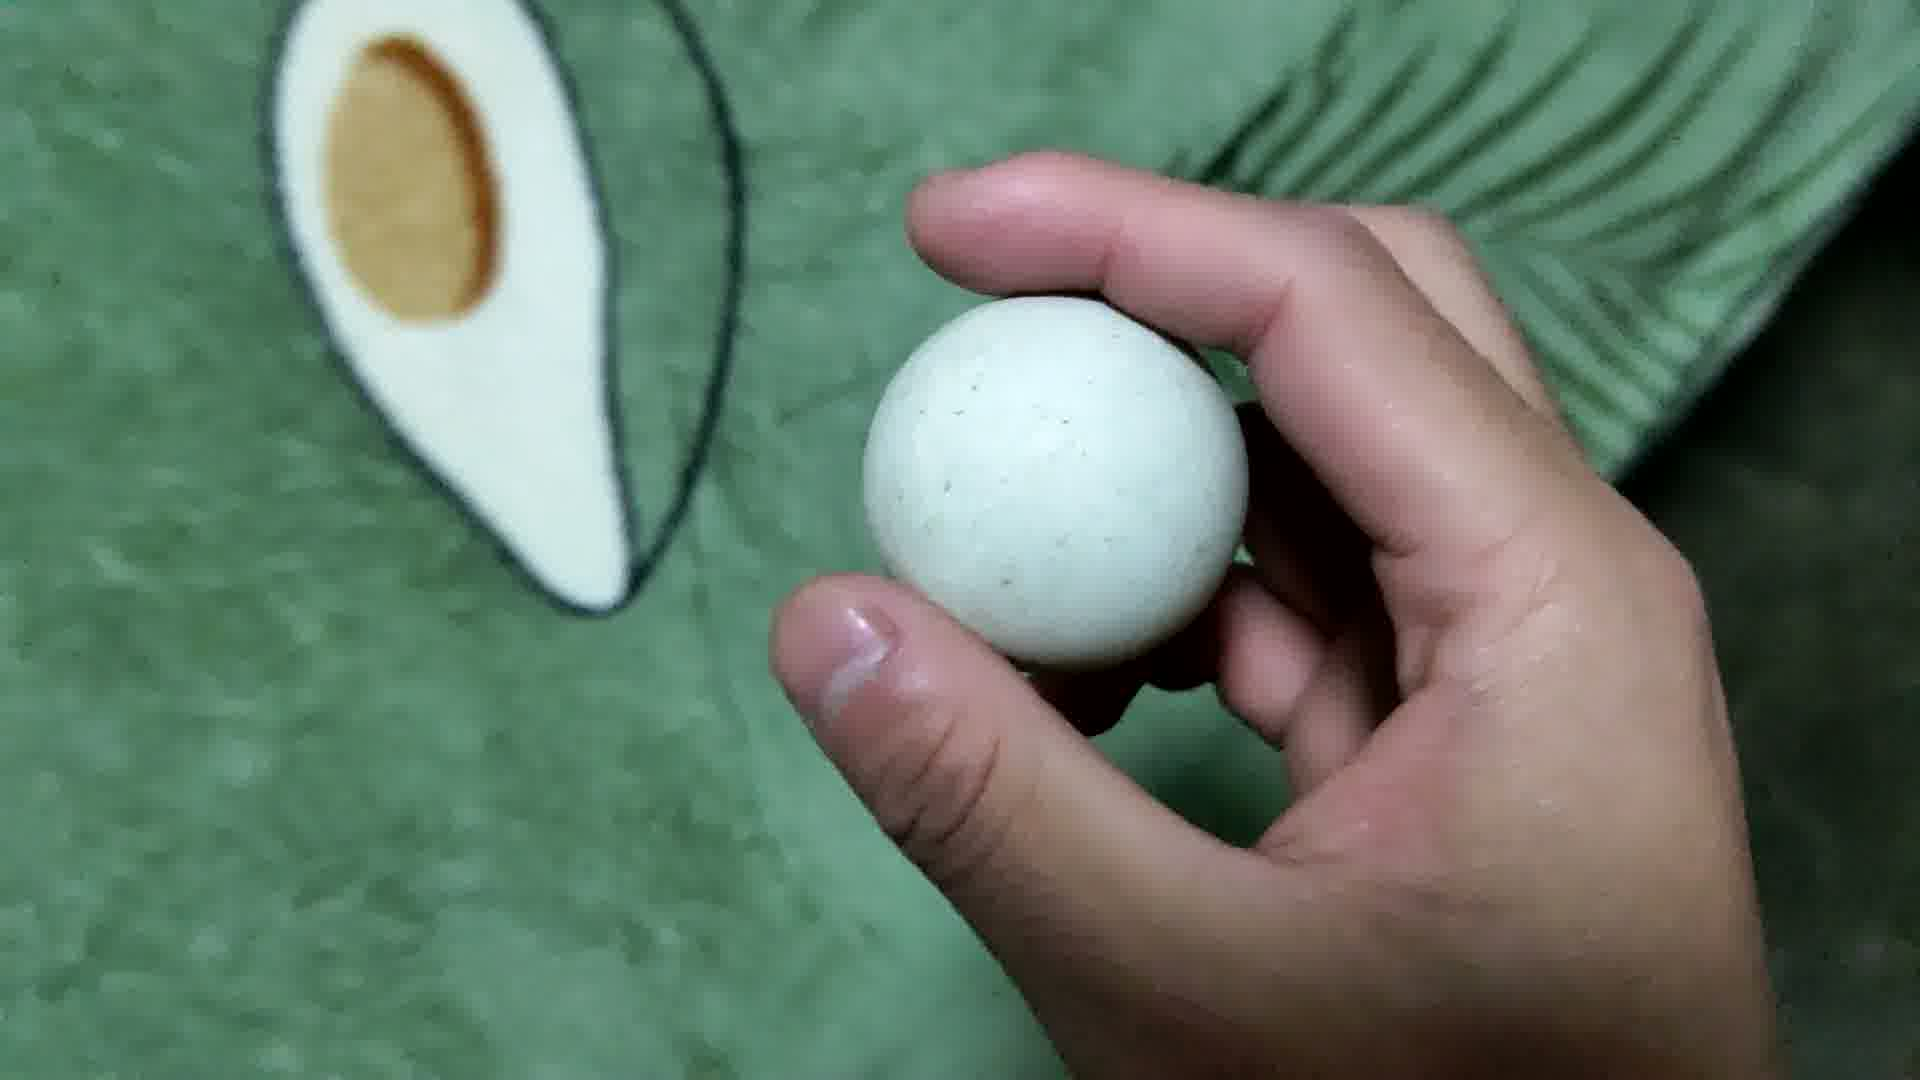Ball: (862, 295, 1254, 666)
